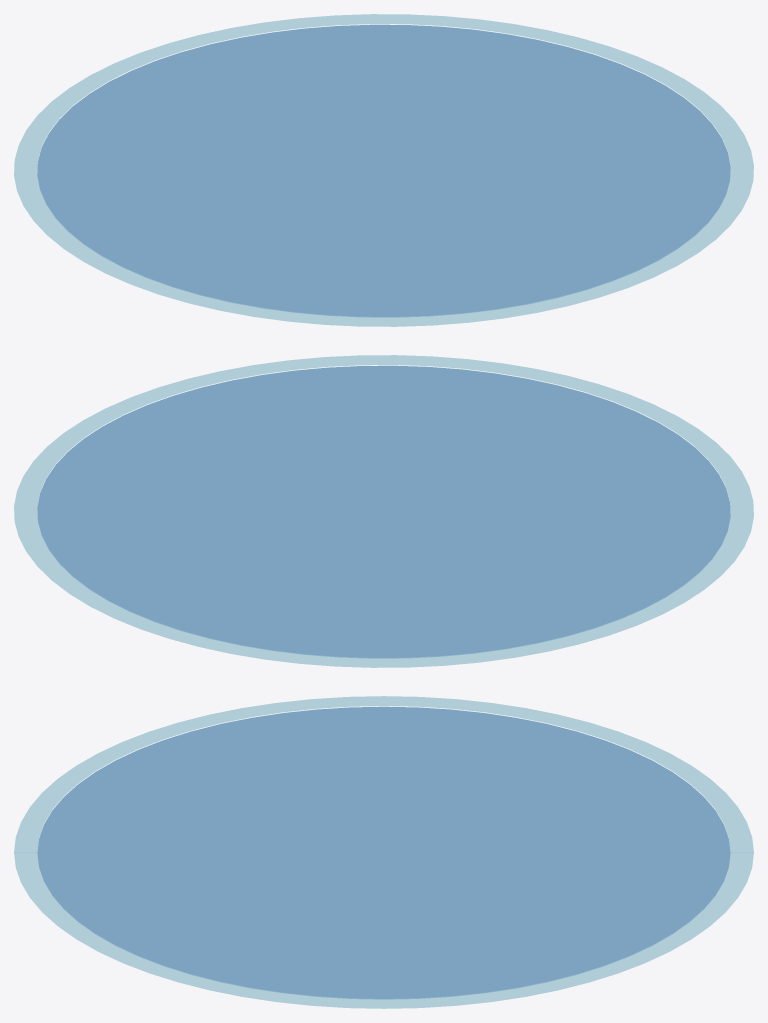
File: disc.glb
The picture shows the model from 3 angles, top to bottom: view 1: azimuth 30°, elevation 25°; view 2: azimuth 150°, elevation 25°; view 3: azimuth 270°, elevation 25°; orthographic projection.
Bounding box in the file's own units: 1.9 × 0.002 × 1.9.
